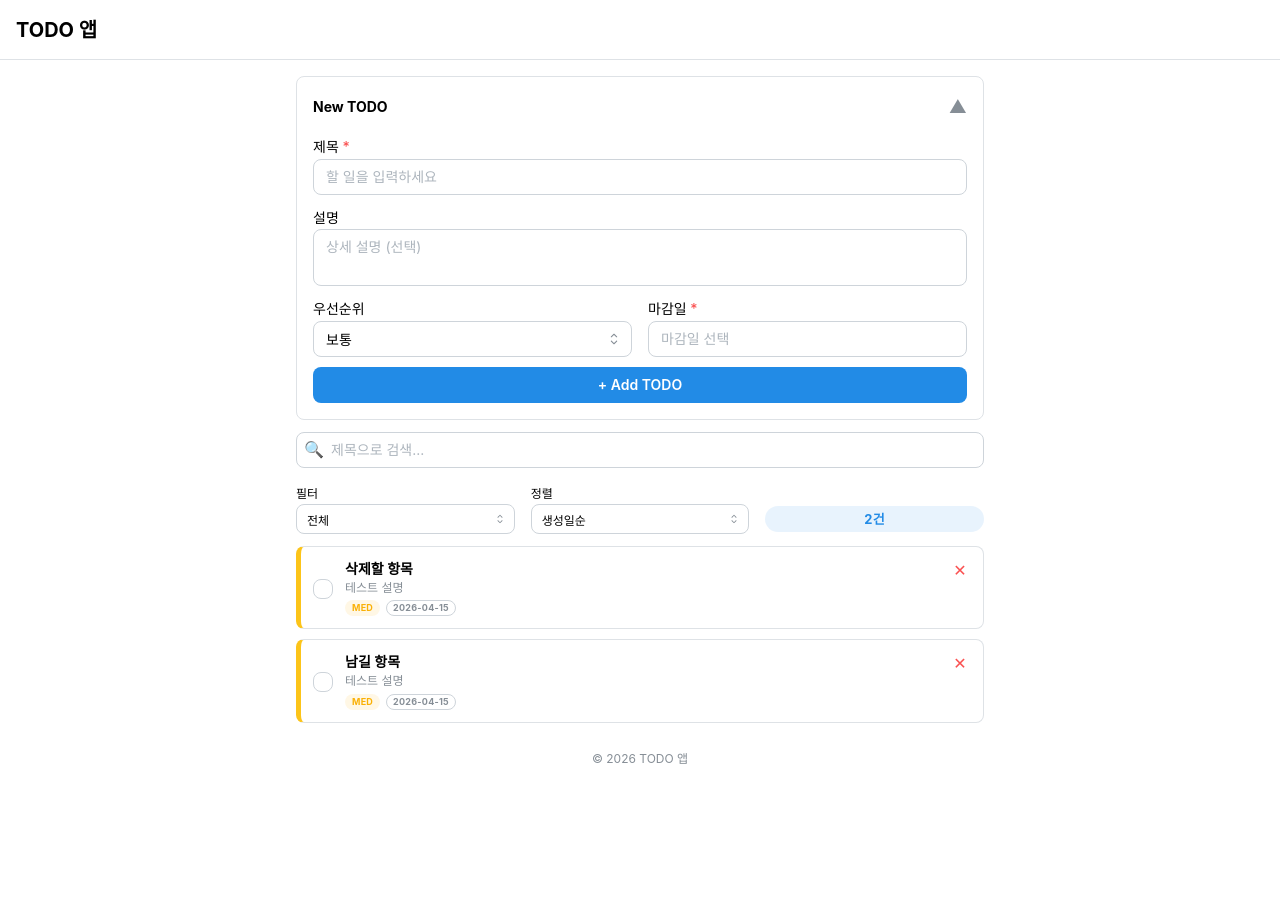
Test case: App 통합 테스트 — 삭제 › 삭제 버튼을 클릭하면 TODO가 제거된다
The image size is (1280, 900).
Click the button named "삭제할 항목 삭제" at (960, 570), box [949,559,971,581]
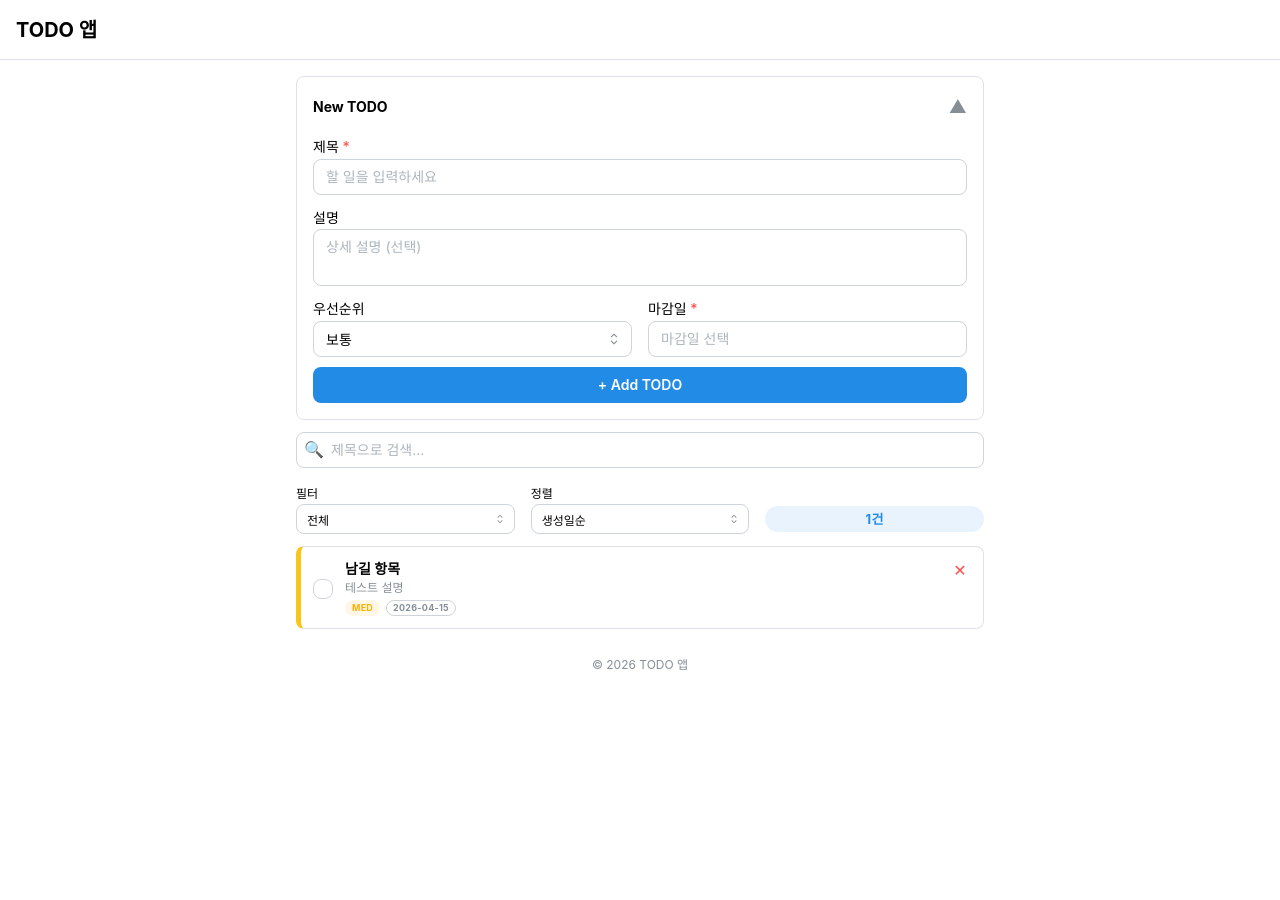
Expected: the text "남길 항목" is shown, [345,560,400,577]
Now the text "삭제할 항목" is gone
Now the text "1건" is shown, box [866,507,884,531]
